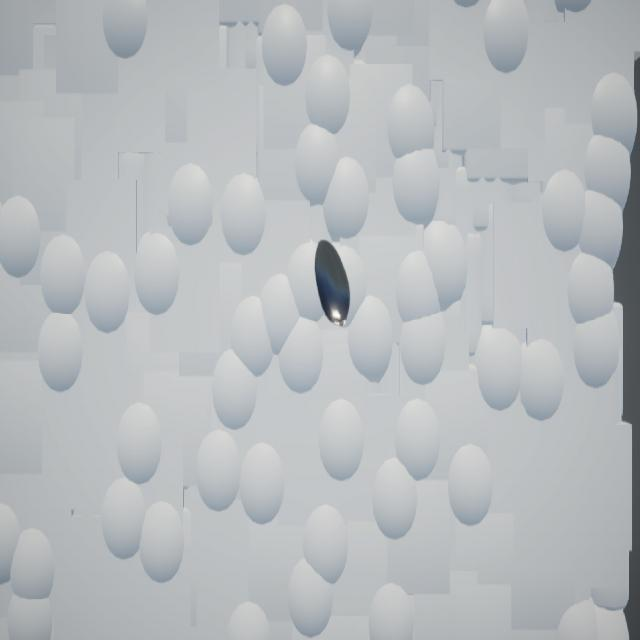top_spoon: (316, 240, 352, 328)
